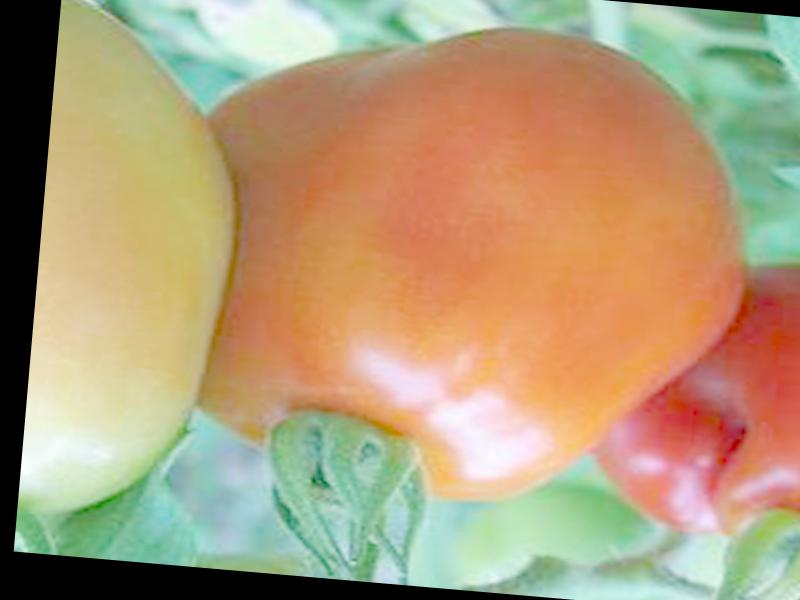Tomato: (202, 4, 764, 522)
